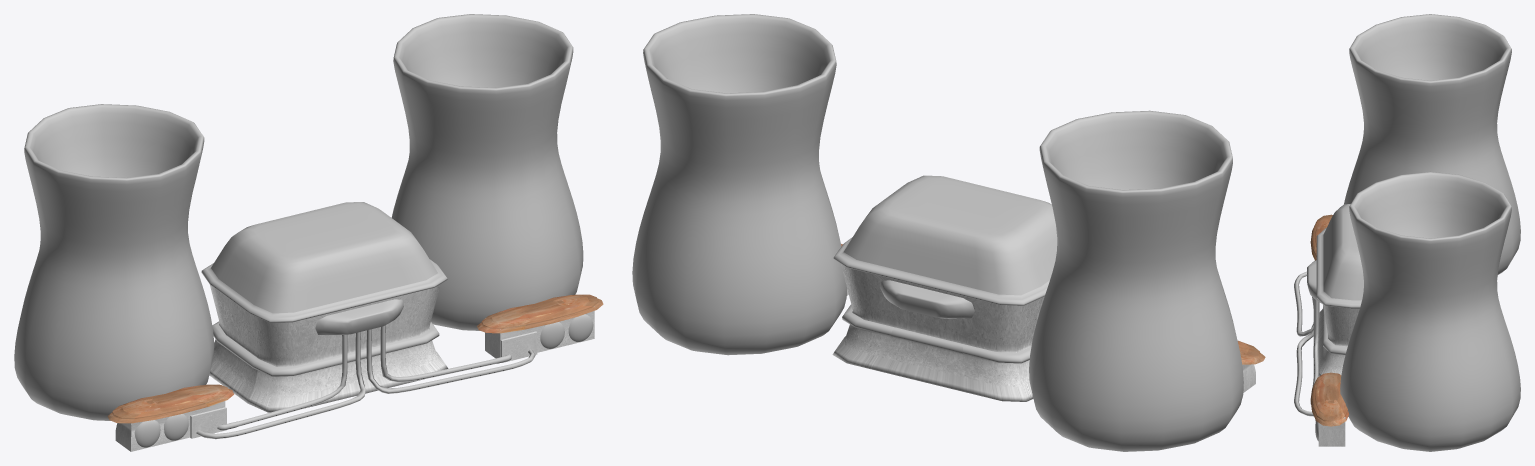
The model's file is ExportedFBXFile.fbx.
3 renders of one model, left to right at view 1: azimuth 30°, elevation 25°; view 2: azimuth 150°, elevation 25°; view 3: azimuth 270°, elevation 25°, orthographic. The views are drawn at different scales.
Visible parts, largest first — view 1: pCylinder2, pCylinder4, polySurface2, polySurface13, polySurface11, polySurface4, pSphere2, roof:pSphere2, polySurface10, polySurface6, nurbsToPoly2, nurbsToPoly3 (+7 smaller); view 2: pCylinder2, pCylinder4, polySurface2, polySurface13, polySurface4, polySurface8, polySurface10, polySurface12; view 3: pCylinder4, pCylinder2, polySurface2, roof:pSphere2, polySurface13, polySurface4, polySurface11, pCube6, nurbsToPoly3, nurbsToPoly4, nurbsToPoly2, pSphere2 (+2 smaller).
Boxes of the visible parts, x1,y1,x2,y2 form: pCylinder2: [14, 104, 214, 420]; pCylinder4: [391, 14, 583, 330]; polySurface2: [211, 202, 437, 313]; polySurface13: [209, 284, 448, 412]; polySurface11: [249, 340, 445, 407]; polySurface4: [201, 259, 447, 322]; pSphere2: [107, 384, 234, 423]; roof:pSphere2: [477, 294, 603, 333]; polySurface10: [212, 321, 439, 376]; polySurface6: [315, 299, 403, 335]; nurbsToPoly2: [196, 332, 365, 439]; nurbsToPoly3: [366, 329, 535, 393]; pCylinder2: [1029, 110, 1243, 451]; pCylinder4: [632, 14, 846, 355]; polySurface2: [844, 175, 1057, 295]; polySurface13: [832, 264, 1044, 401]; polySurface4: [833, 237, 1049, 305]; polySurface8: [880, 280, 974, 318]; polySurface10: [842, 304, 1031, 363]; polySurface12: [891, 328, 963, 353]; pCylinder4: [1340, 171, 1520, 451]; pCylinder2: [1344, 14, 1520, 274]; polySurface2: [1323, 204, 1363, 300]; roof:pSphere2: [1310, 372, 1349, 426]; polySurface13: [1318, 303, 1359, 376]; polySurface4: [1316, 228, 1361, 308]; polySurface11: [1319, 309, 1345, 374]; pCube6: [1318, 417, 1345, 446]; nurbsToPoly3: [1294, 302, 1319, 416]; nurbsToPoly4: [1310, 298, 1318, 404]; nurbsToPoly2: [1294, 271, 1319, 336]; pSphere2: [1310, 214, 1332, 260].
Size of the model in its own units: 20.78 by 9.13 by 8.51.
